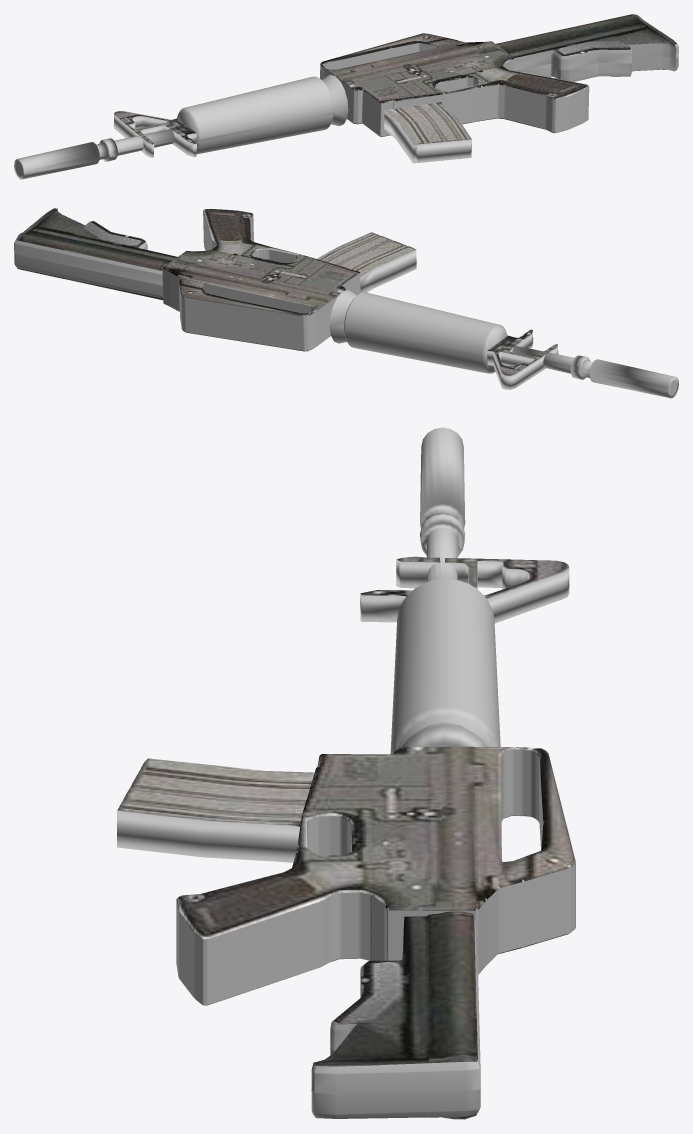
The model's file is colt.obj.
3 views of the same model, one above another, from view 1: azimuth 30°, elevation 25°; view 2: azimuth 150°, elevation 25°; view 3: azimuth 270°, elevation 25° (orthographic). The views are drawn at different scales.
Parts seen in each view (by area): view 1: Colt; view 2: Colt; view 3: Colt.
Part boxes in pixels (x1=…): Colt: x1=14, y1=14, x2=678, y2=179; Colt: x1=14, y1=208, x2=678, y2=398; Colt: x1=117, y1=427, x2=575, y2=1119.
Size of the model in its own units: 379 by 28.82 by 120.
